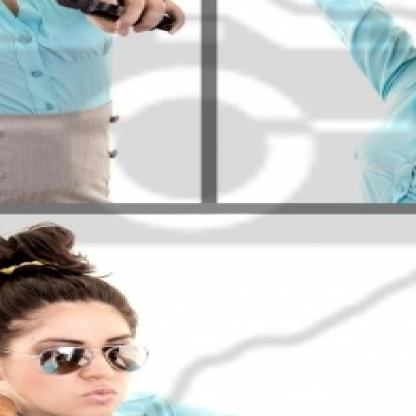gun: (57, 0, 193, 37)
